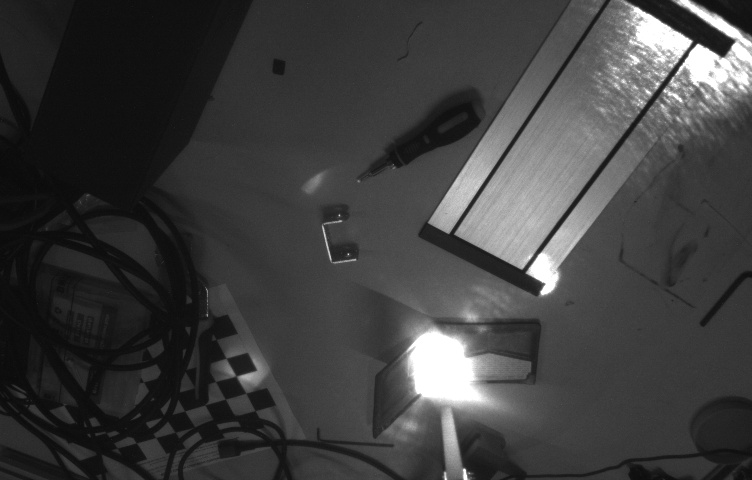Object bifold wallet - Material leather - Pdfname qb3CMu4EyzEc: (421, 332, 470, 384)
